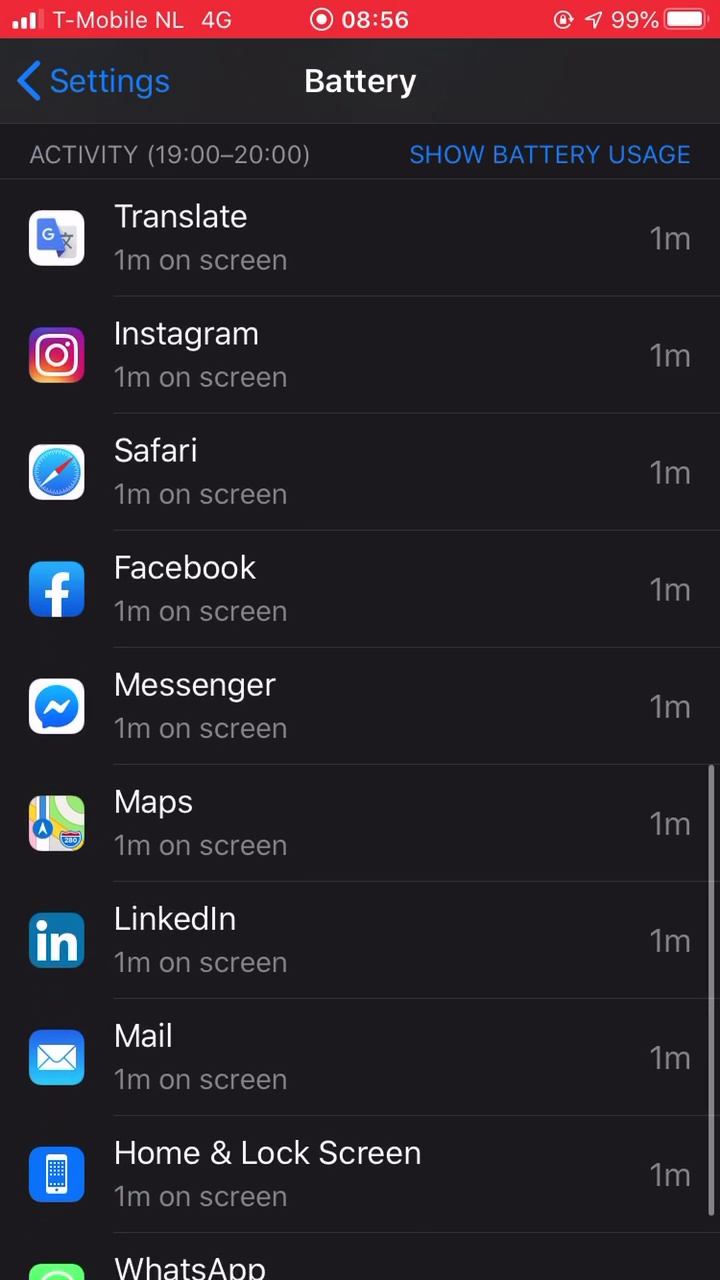activity: (15, 136, 322, 171)
app: (11, 197, 713, 285), (13, 315, 715, 403), (11, 427, 713, 515), (11, 541, 713, 629), (11, 663, 713, 751), (7, 781, 709, 869), (9, 893, 711, 981), (9, 1011, 711, 1099), (5, 1131, 707, 1219)
